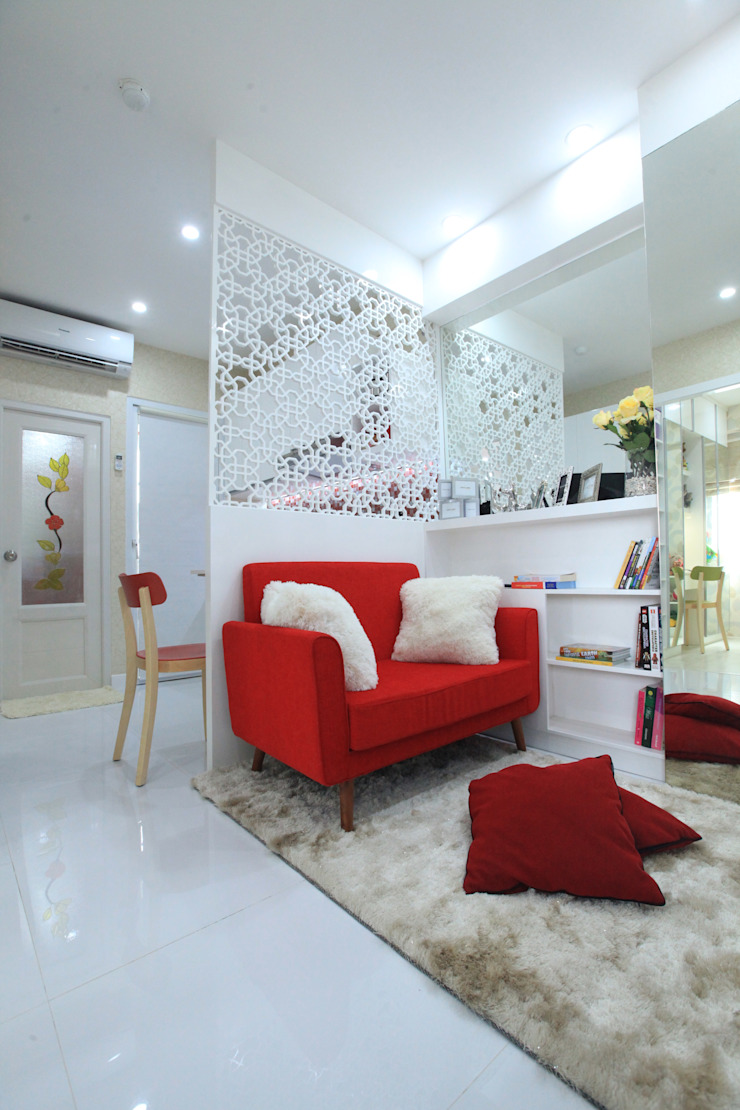bantal: (461, 765, 652, 898), (265, 581, 376, 686), (391, 573, 502, 661)
buku: (616, 534, 663, 595), (632, 598, 667, 670), (631, 681, 666, 753)
kursi: (110, 571, 213, 776)
sova: (225, 552, 538, 773)
tanaman: (596, 384, 661, 493)
